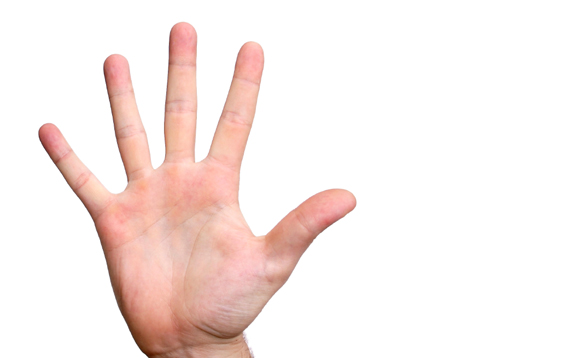finger: (202, 34, 276, 165), (97, 48, 154, 172), (33, 121, 113, 208), (163, 16, 196, 165)
